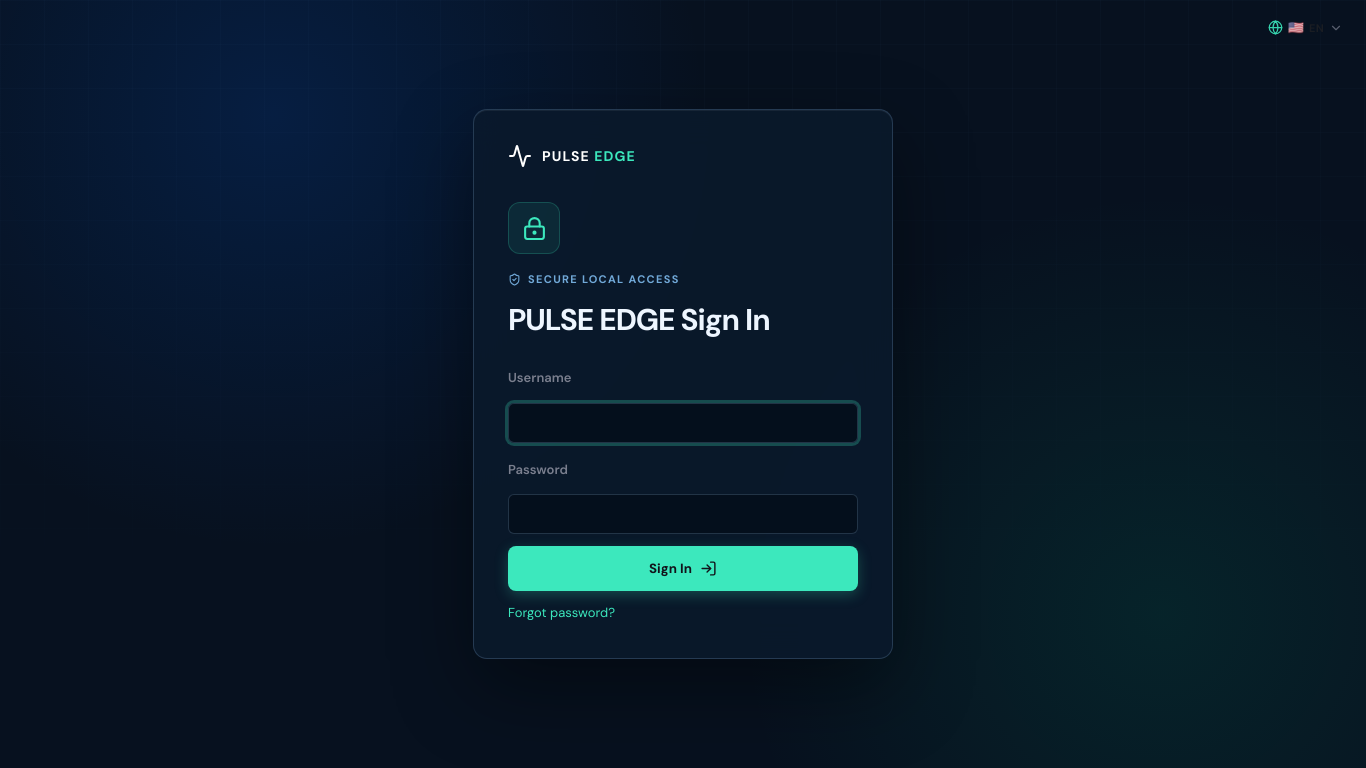
Test: LoginScreen › shows the server error message when authentication fails
Step 1. Type "test-operator" into the field labelled "Username" → (683, 423), box top-left (508, 403), bottom-right (858, 443)
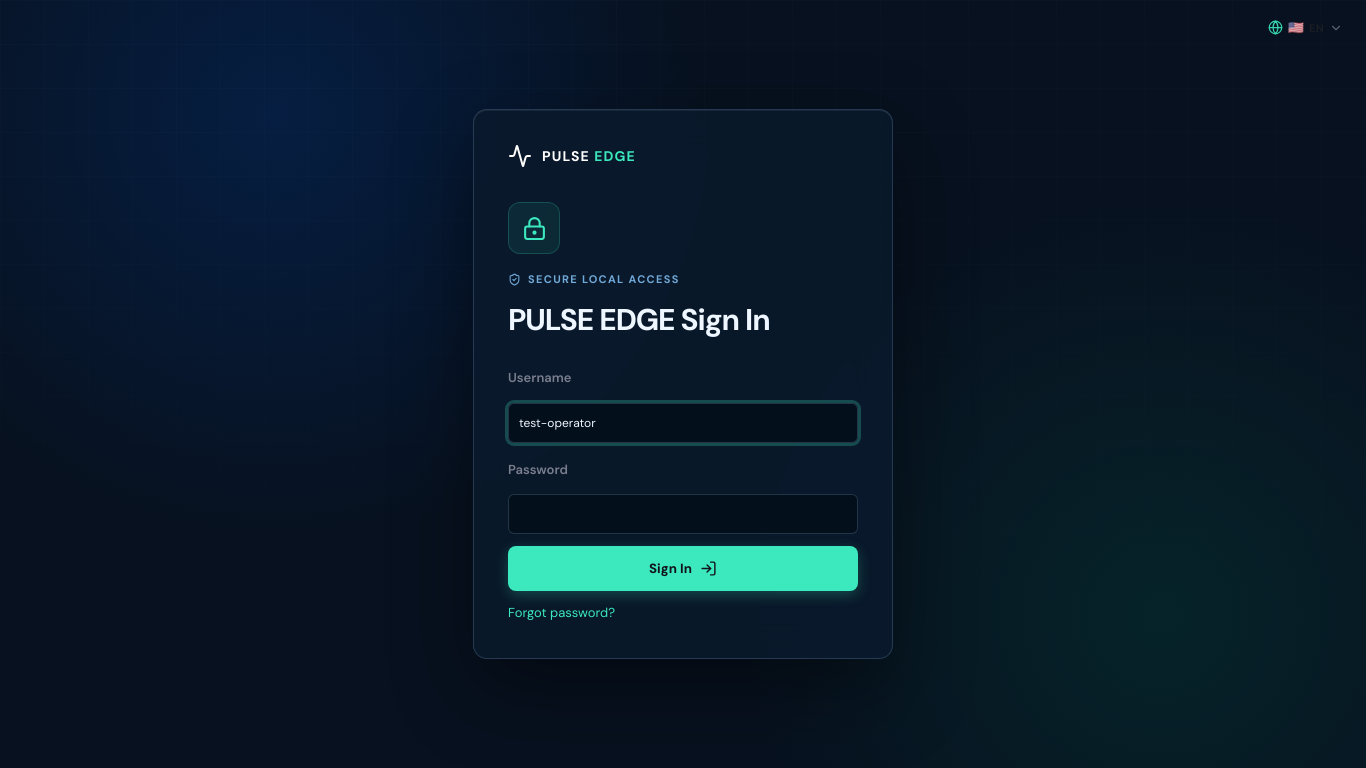
Step 2. Type "not-a-real-password" into the password field labelled "Password" → (683, 514), box top-left (508, 494), bottom-right (858, 534)
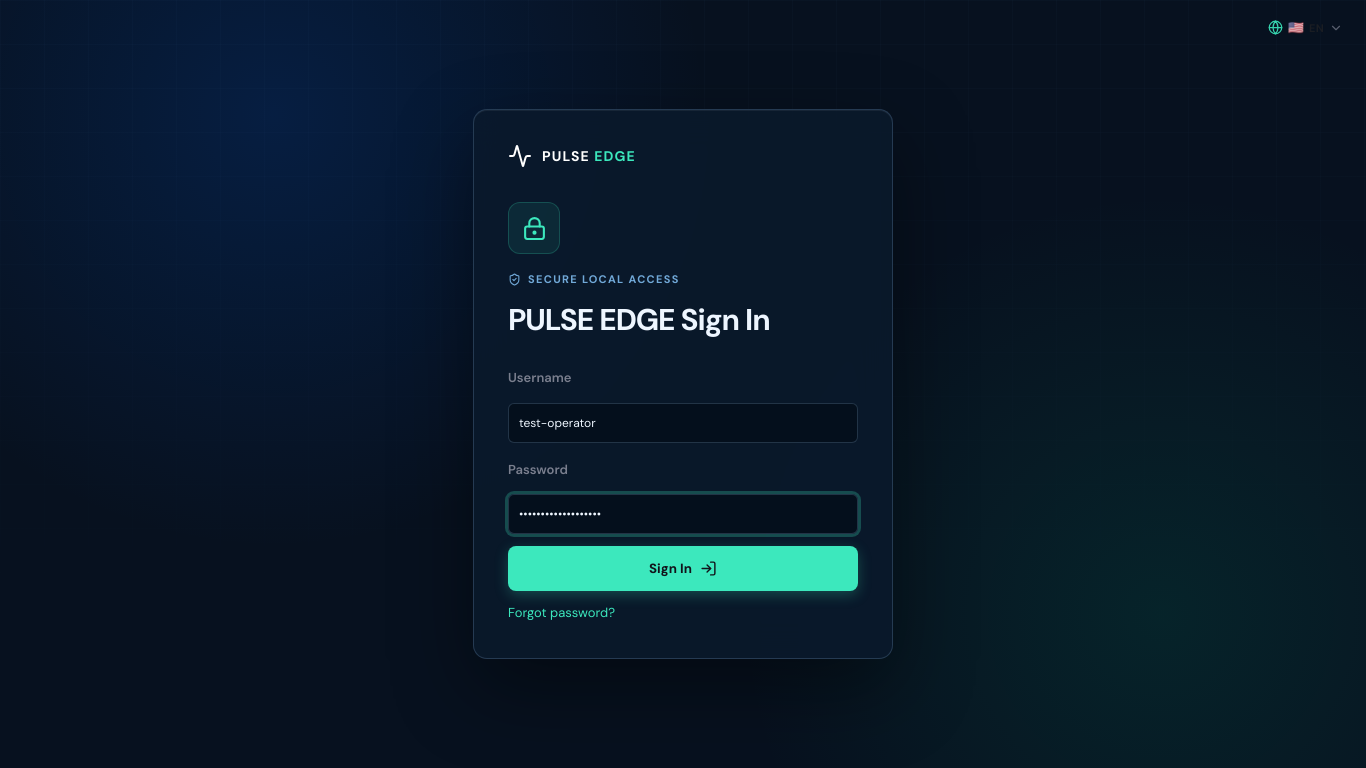
Step 3. Click the button "Sign In" → (683, 569), box top-left (508, 546), bottom-right (858, 591)
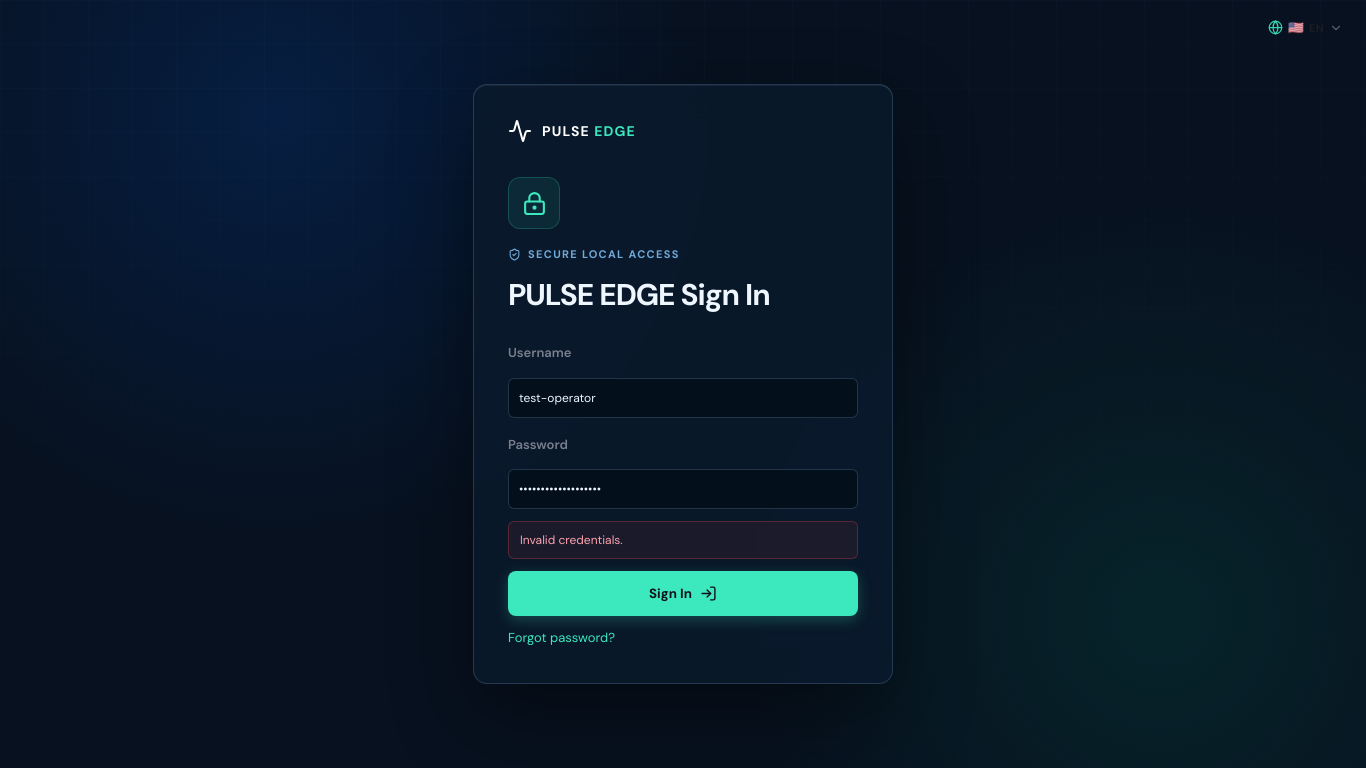
Now the text "Invalid credentials." is shown, box top-left (508, 521), bottom-right (858, 559)
